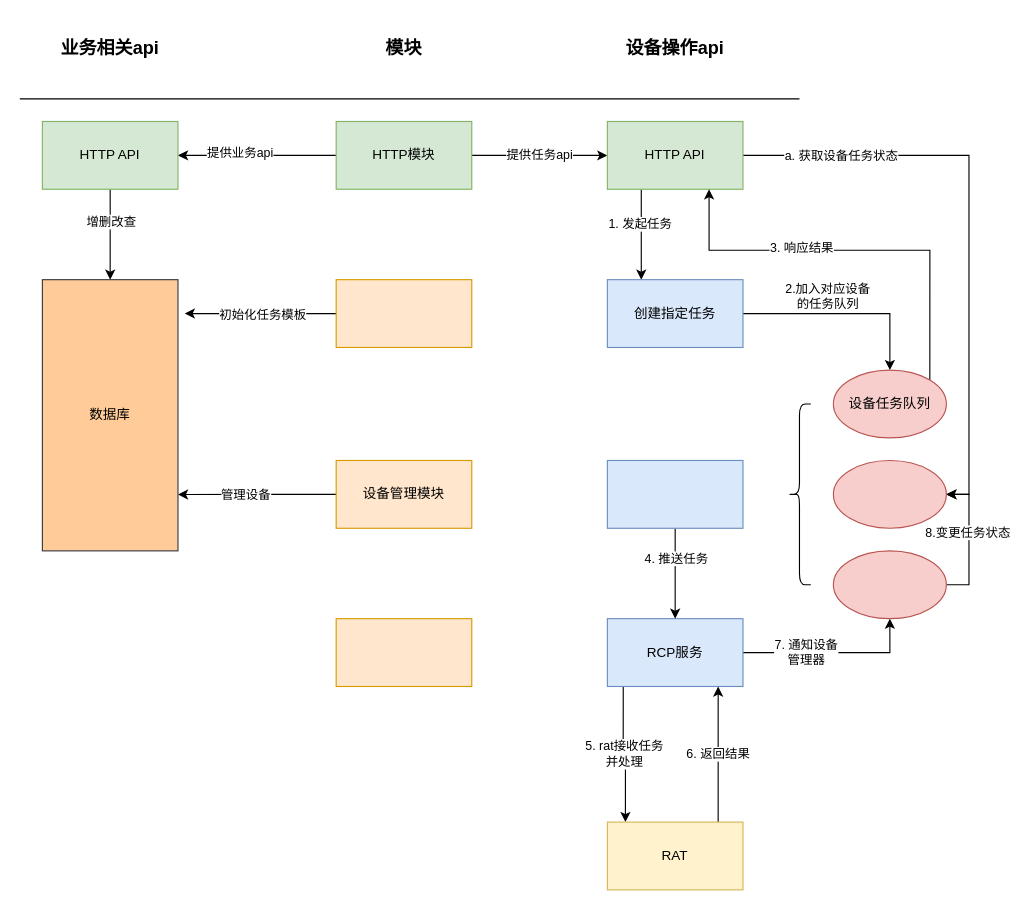
Some shapes in this 1029 by 910 pixel diagram are drawn without their labels. Each missing label, with the box of its shape:
Loop Recv 任务结果: (832, 550, 946, 619)
RPC模块: (335, 618, 472, 686)
任务模板: (335, 279, 472, 347)
设备任务状态: (832, 459, 946, 528)
设备管理器: (606, 459, 743, 528)
